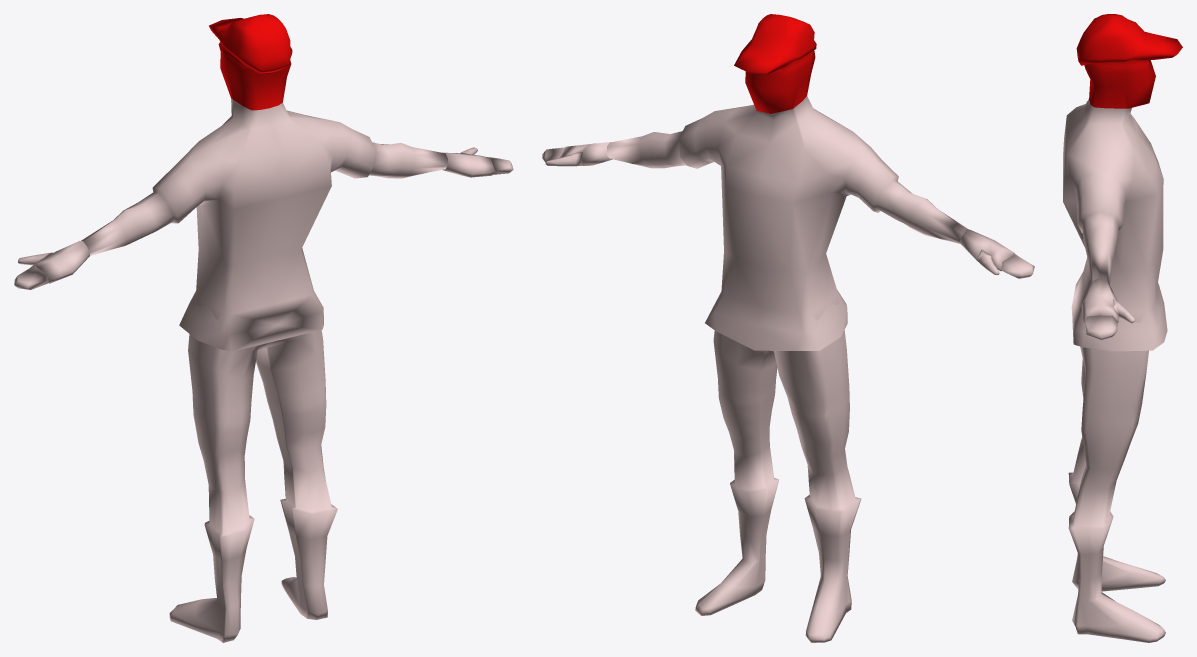
File: EnemyOrigin_Mini.fbx
The picture shows the model from 3 angles, left to right: view 1: azimuth 30°, elevation 25°; view 2: azimuth 150°, elevation 25°; view 3: azimuth 270°, elevation 25°; orthographic projection.
Parts seen in each view (by area): view 1: Cube; view 2: Cube; view 3: Cube.
Boxes of the visible parts, x1,y1,x2,y2 form: Cube: [14, 14, 513, 642]; Cube: [542, 14, 1034, 642]; Cube: [1063, 14, 1182, 642].
Bounding box in the file's own units: 2.89 × 3.35 × 0.6141.
